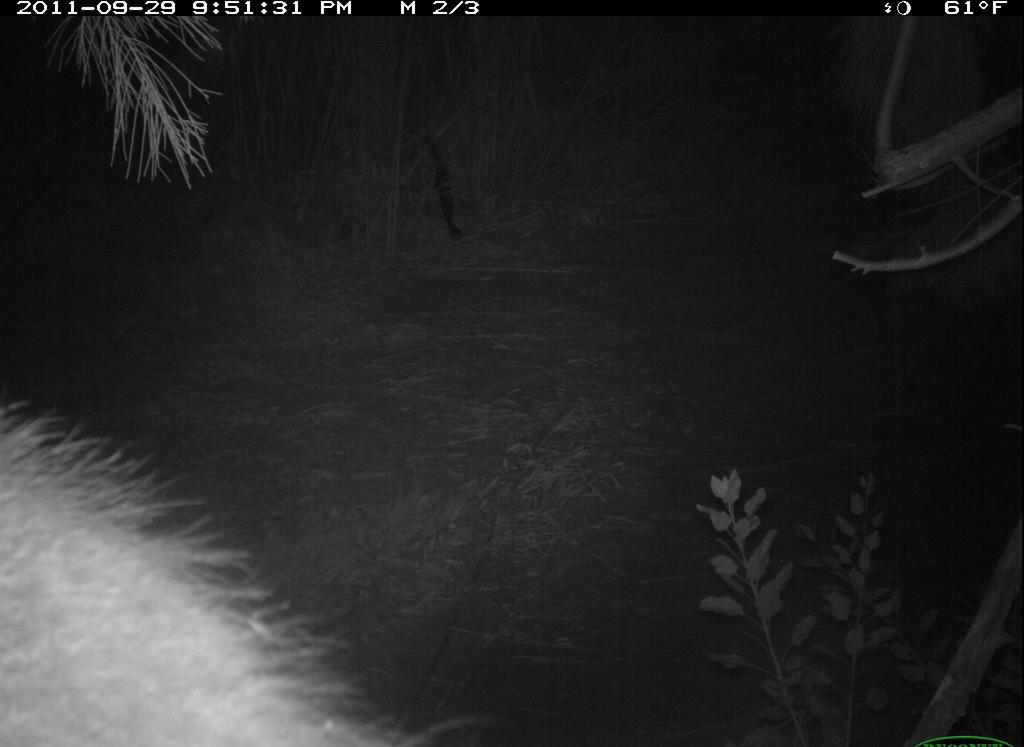raccoon: (3, 346, 423, 745)
